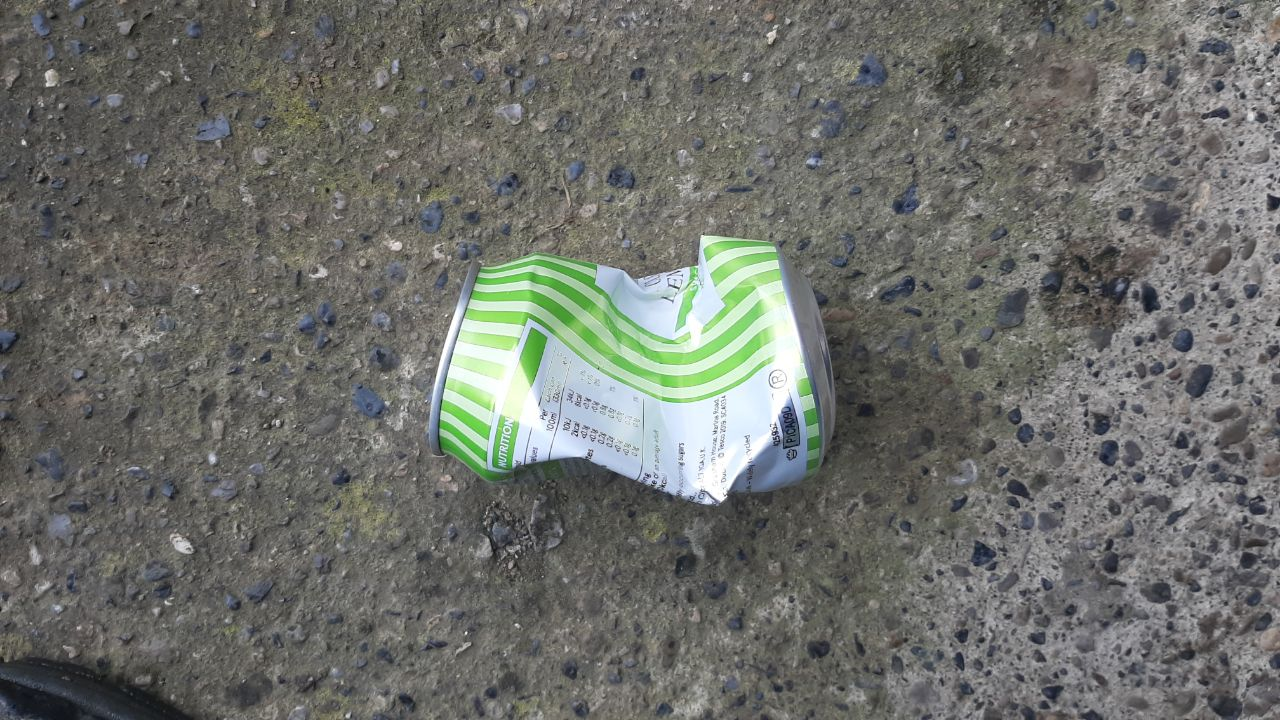Can: (423, 233, 840, 511)
